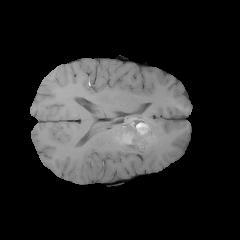glioma: (116, 117, 163, 156)
